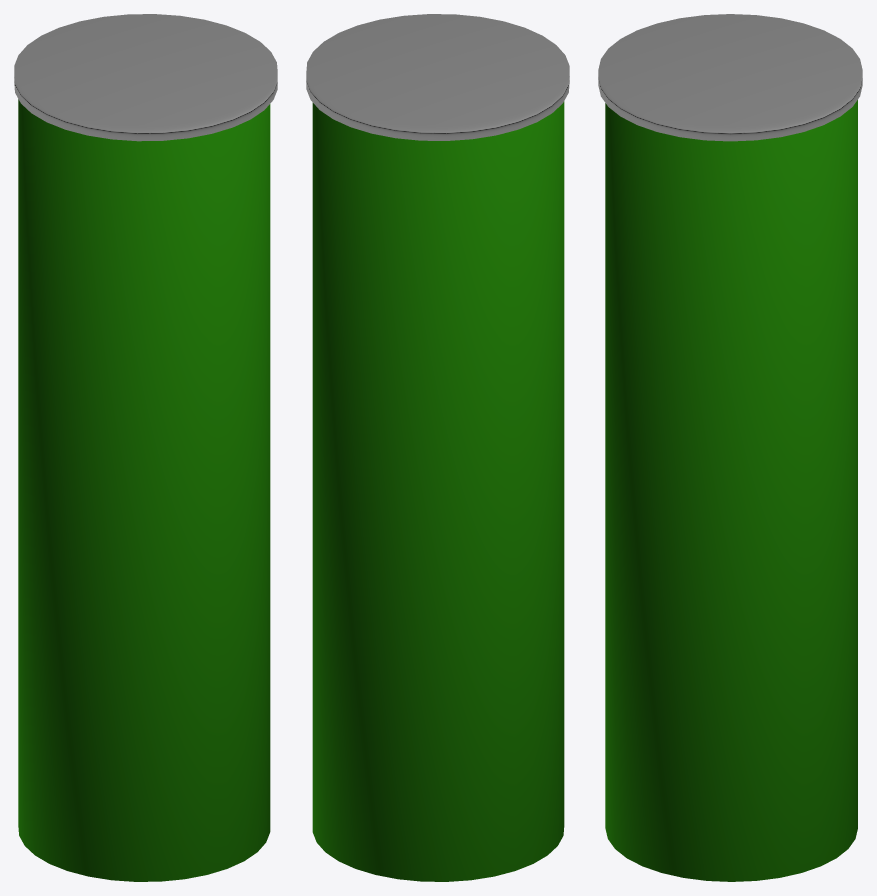
File: groen.gltf
The picture shows the model from 3 angles, left to right: view 1: azimuth 30°, elevation 25°; view 2: azimuth 150°, elevation 25°; view 3: azimuth 270°, elevation 25°; orthographic projection.
Visible parts, largest first — view 1: Cylinder, Cylinder.001; view 2: Cylinder, Cylinder.001; view 3: Cylinder, Cylinder.001.
Boxes of the visible parts, x1,y1,x2,y2 form: Cylinder: [18, 99, 270, 881]; Cylinder.001: [14, 14, 277, 141]; Cylinder: [312, 101, 564, 881]; Cylinder.001: [306, 14, 569, 140]; Cylinder: [605, 100, 857, 881]; Cylinder.001: [598, 14, 862, 141].
Bounding box in the file's own units: 2.09 × 6.64 × 2.09.
